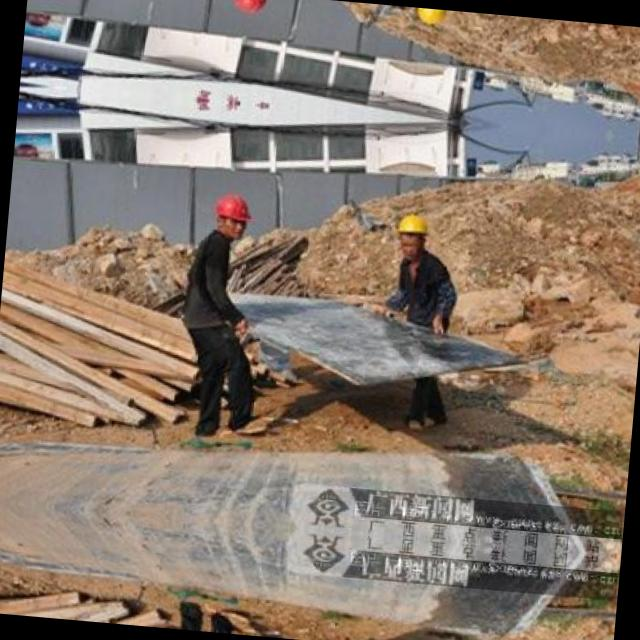helmet: (208, 187, 252, 240), (391, 208, 432, 256), (410, 7, 450, 30), (227, 0, 271, 20)
